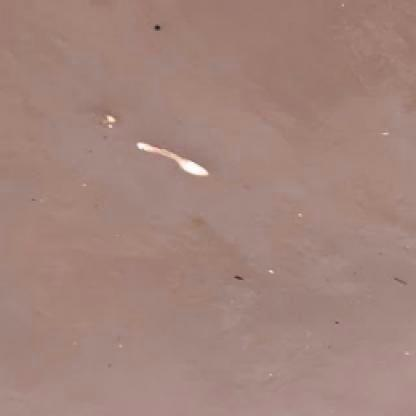Trash: (135, 130, 210, 178)
